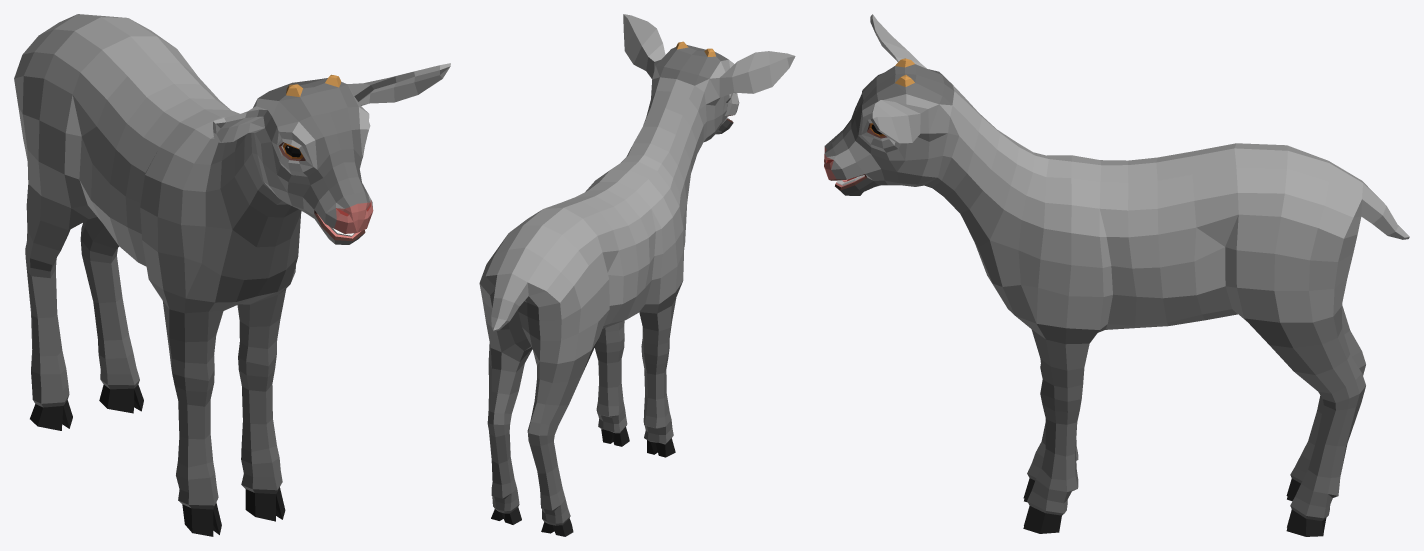
File: LowPoly_Goatling_1.obj
3 renders of one model, left to right at view 1: azimuth 30°, elevation 25°; view 2: azimuth 150°, elevation 25°; view 3: azimuth 270°, elevation 25°, orthographic. The views are drawn at different scales.
Parts seen in each view (by area): view 1: Goatling_1_Cube; view 2: Goatling_1_Cube; view 3: Goatling_1_Cube.
Boxes of the visible parts, <box> form: Goatling_1_Cube: <box>14,14,450,536</box>; Goatling_1_Cube: <box>479,14,795,536</box>; Goatling_1_Cube: <box>824,14,1409,536</box>.
Bounding box in the file's own units: 0.2081 × 0.4165 × 0.4936.
